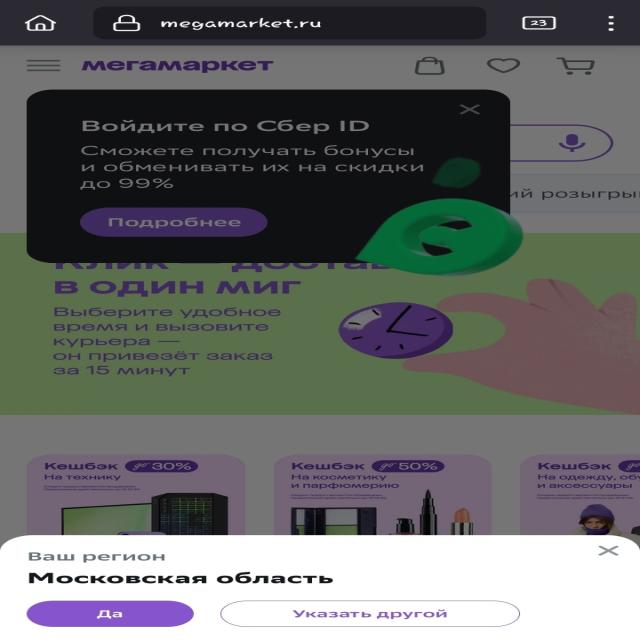button: (220, 600, 522, 628), (83, 207, 265, 238), (27, 600, 197, 626), (594, 543, 628, 560), (455, 101, 487, 119)
site: (28, 89, 510, 264), (0, 535, 640, 639)
